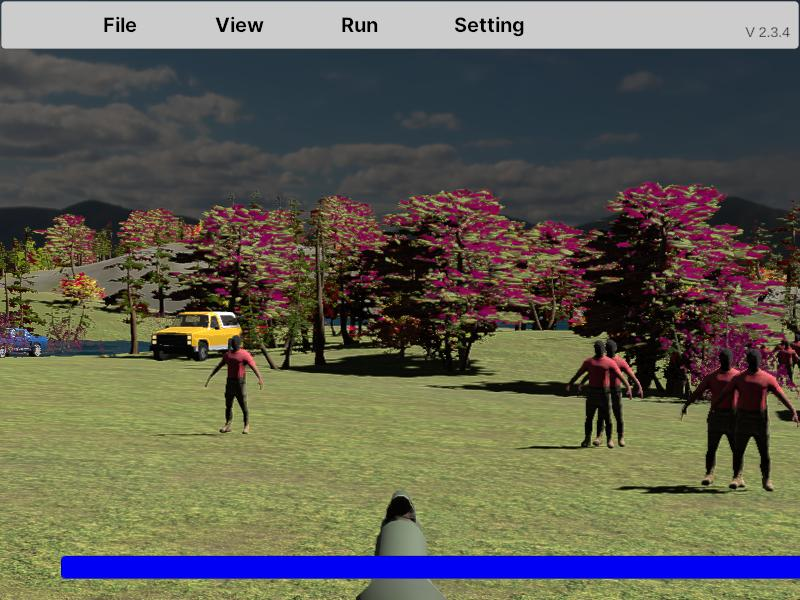Human: (714, 348, 798, 493), (681, 348, 763, 487), (567, 341, 631, 449), (206, 336, 262, 433)
car: (151, 311, 243, 362), (0, 325, 50, 360)
